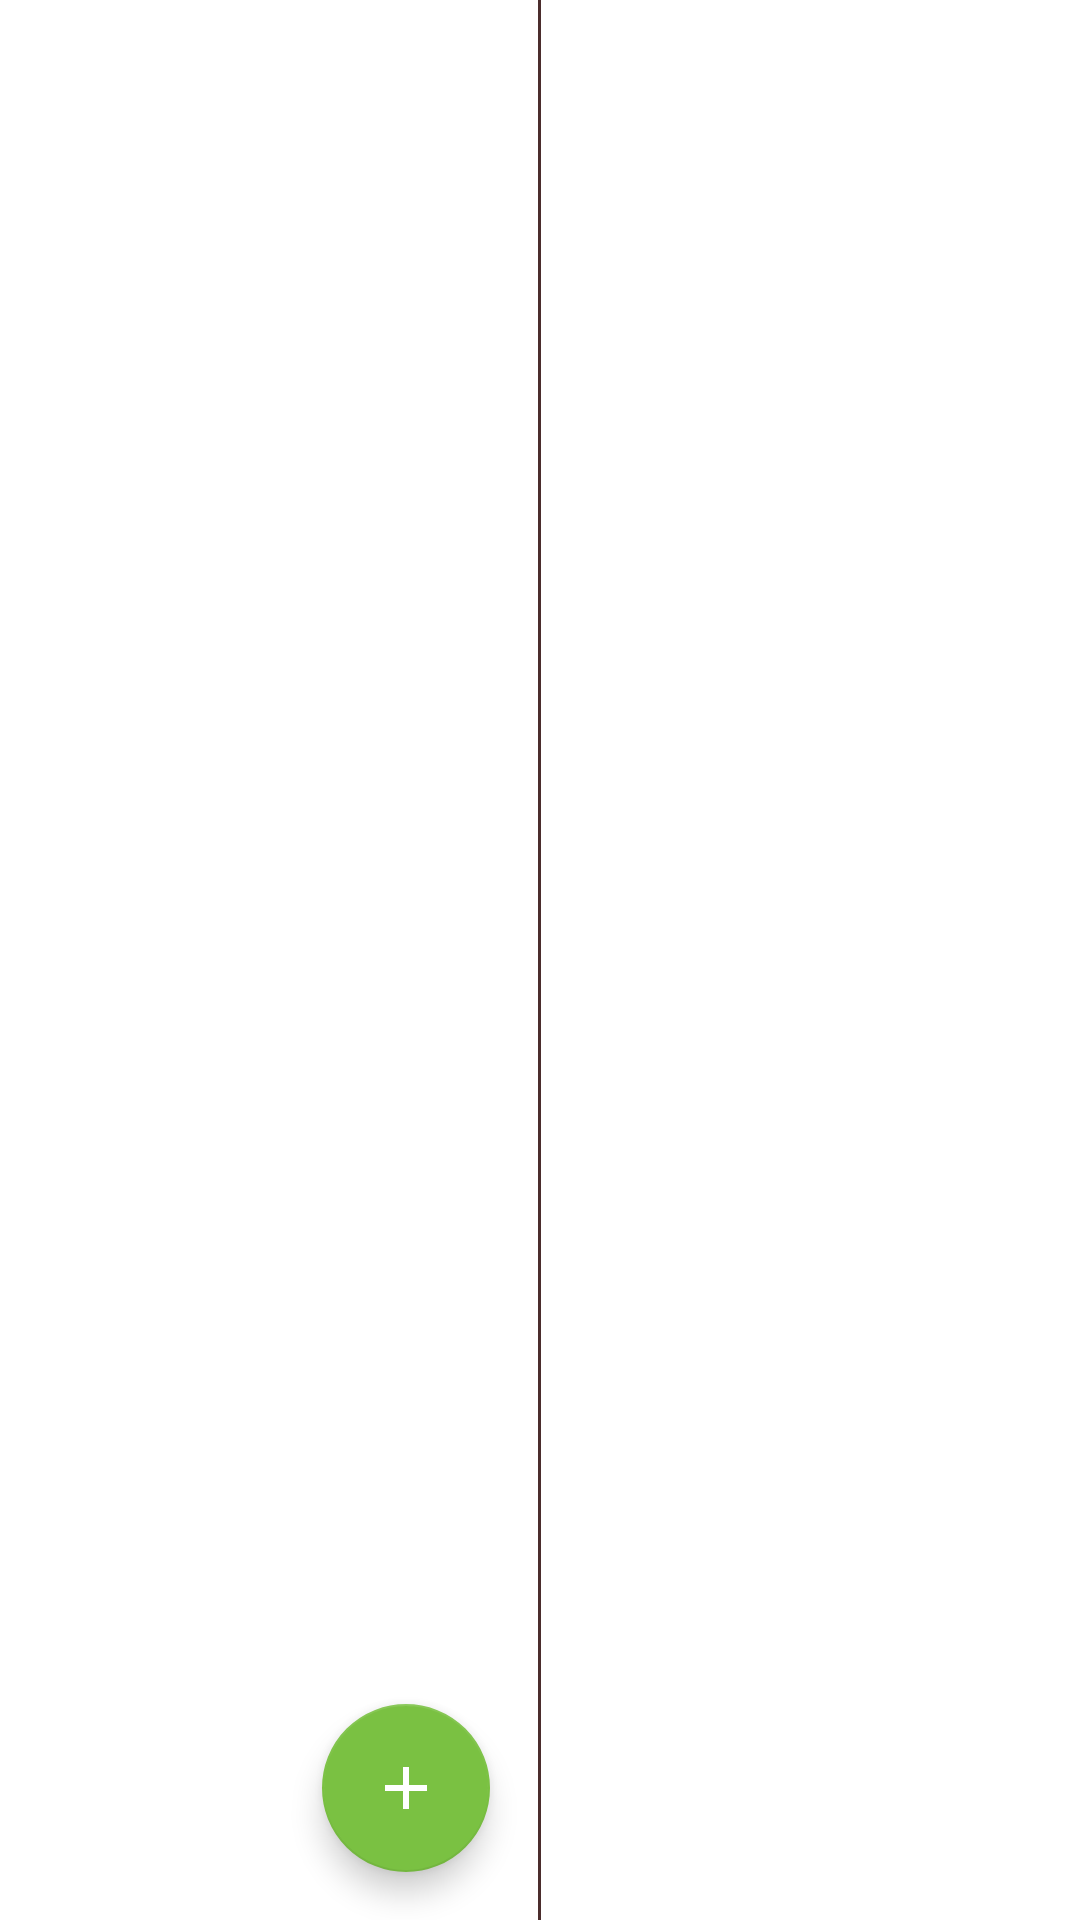

Point at icon controls on the screen. Image size 1080*1920, points as point (x, y).
add: point (406, 1788)
